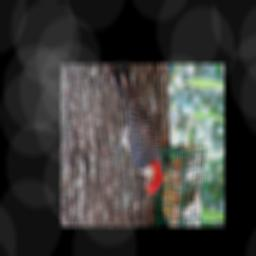Woodpecker: (105, 64, 163, 208)
